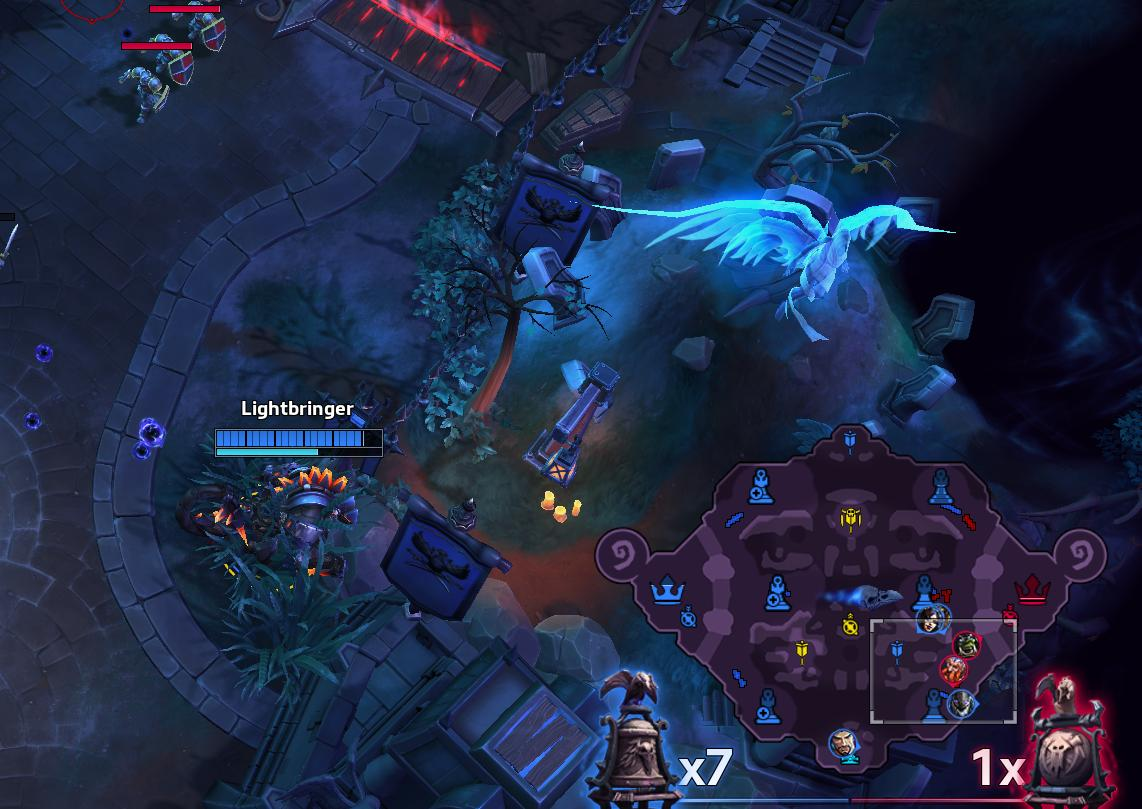blue nexus: (644, 565, 692, 610)
blue player: (824, 725, 864, 763), (911, 605, 949, 638), (949, 686, 984, 721)
blue tower: (923, 460, 962, 515), (743, 460, 780, 510), (917, 685, 953, 733), (762, 572, 798, 615), (749, 686, 784, 729), (908, 572, 940, 615)
red nexus: (1008, 565, 1057, 614)
red player: (948, 628, 987, 665), (935, 654, 972, 689)
